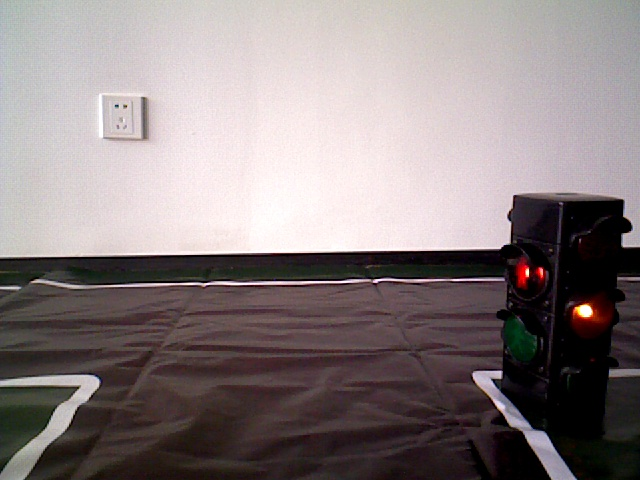yellow: (511, 194, 626, 413)
